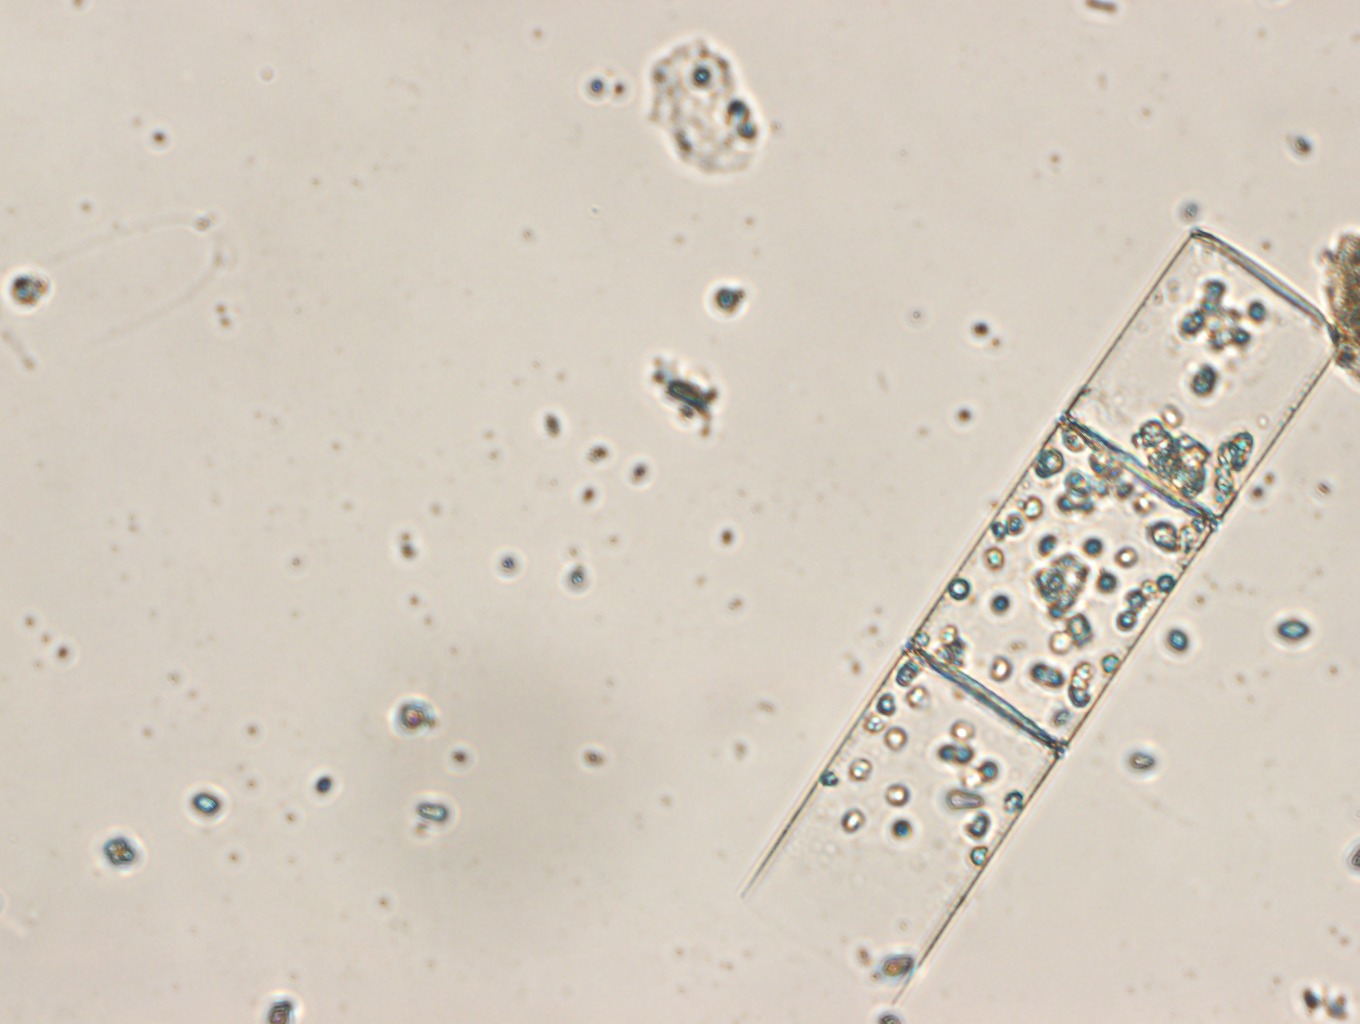guinardia flaccida: (740, 224, 1337, 964)
